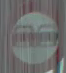No overtake: (7, 9, 59, 60)
